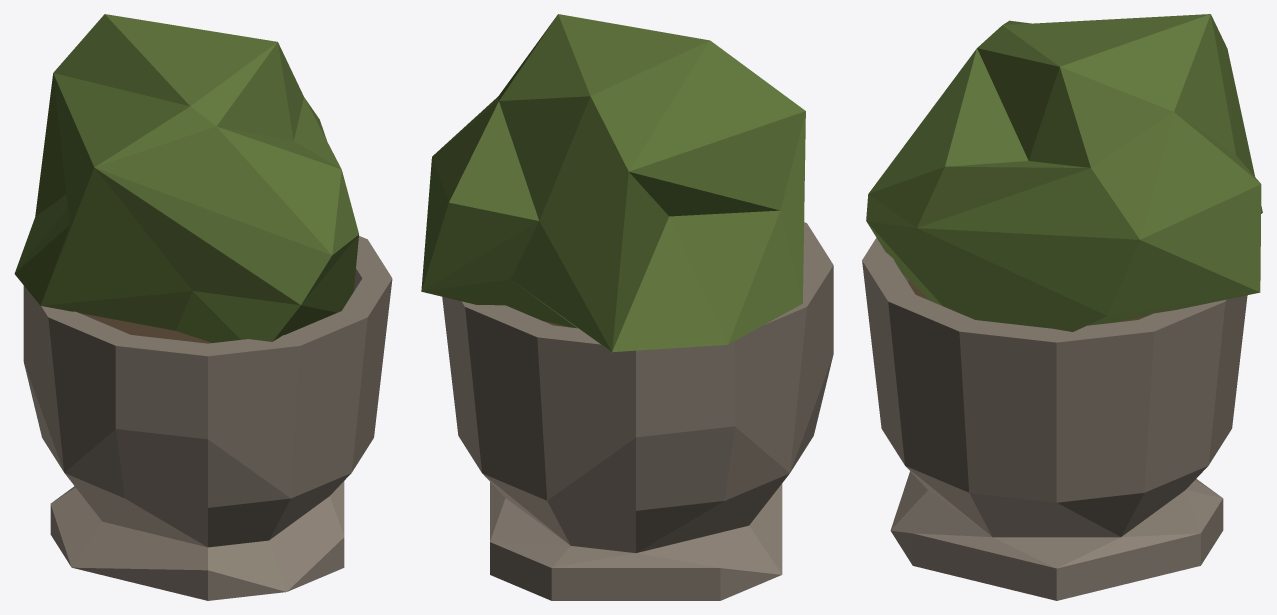
Rendered from potplant.glb.
3 renders of one model, left to right at view 1: azimuth 30°, elevation 25°; view 2: azimuth 150°, elevation 25°; view 3: azimuth 270°, elevation 25°, orthographic. The views are drawn at different scales.
Visible parts, largest first — view 1: SM_Prop_PotPlant_01; view 2: SM_Prop_PotPlant_01; view 3: SM_Prop_PotPlant_01.
Boxes of the visible parts, left/top/right/bottom form: SM_Prop_PotPlant_01: left=14, top=14, right=392, bottom=600; SM_Prop_PotPlant_01: left=421, top=14, right=833, bottom=600; SM_Prop_PotPlant_01: left=862, top=14, right=1262, bottom=600.
Bounding box in the file's own units: 0.5653 × 0.7975 × 0.5784.
1 material, 1 textured.
